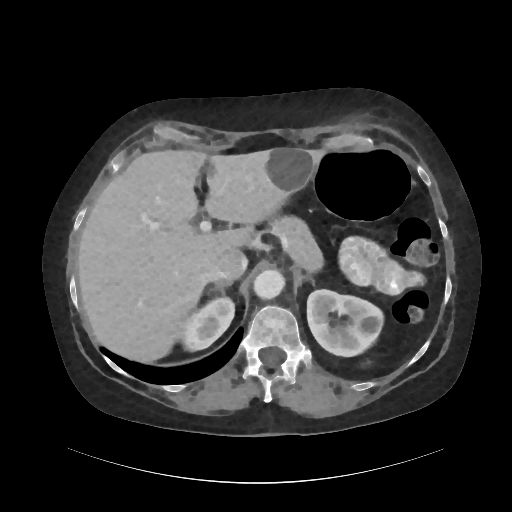Lesion: (356, 314, 382, 337)
